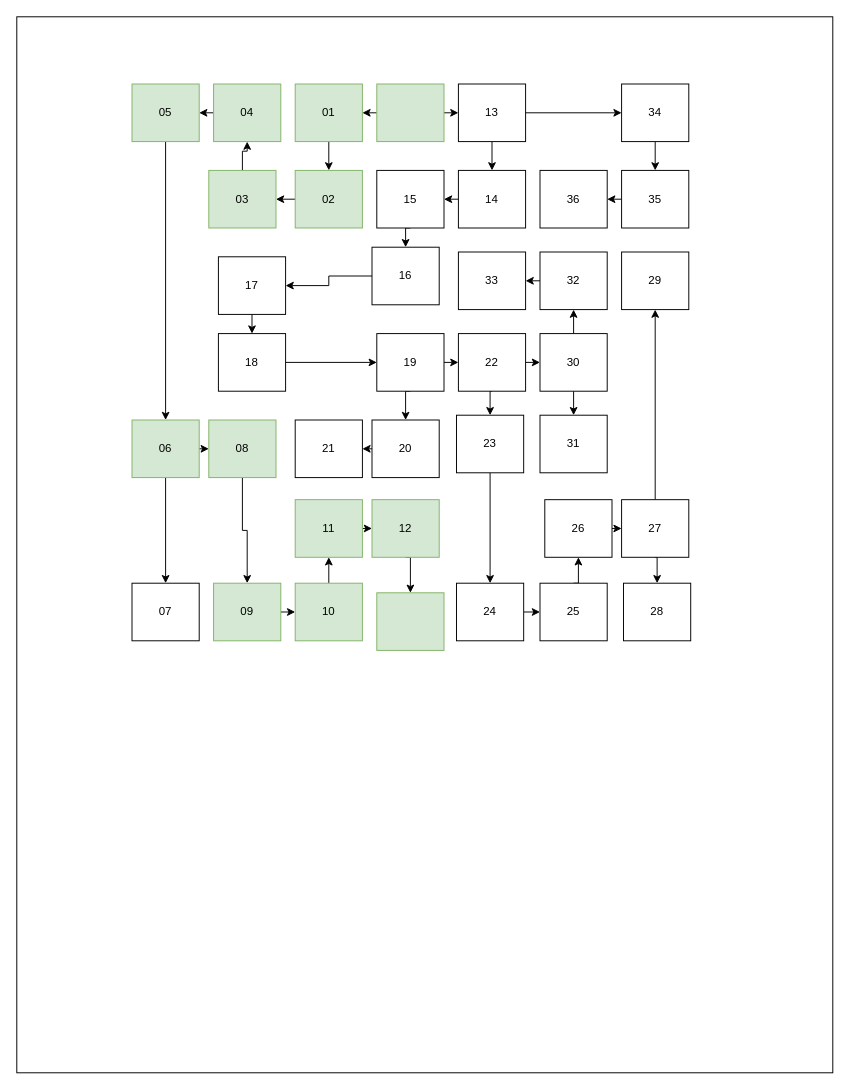
Some shapes in this 850 by 1090 pixel diagram are drawn without their labels. The centre of each missing label's shape, as x and y in pixels:
"End" goes at point 410,621.
"Start" goes at point 410,112.
